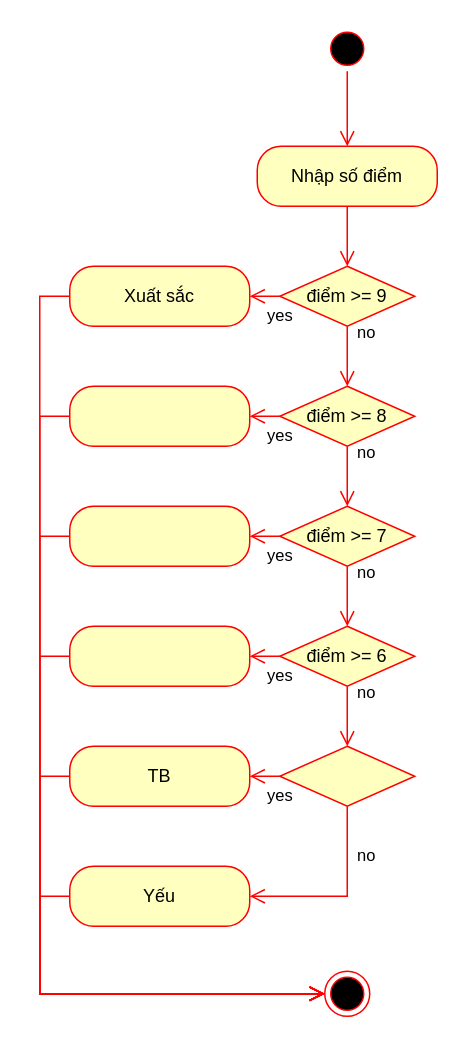
The diagram is 464 pixels wide and 1043 high, and some of its shapes have lost their labels. The shapes that lost their labels are listed below. From the top down, each one's box as (x1, y1, x2, y2) in pixels, then its label:
(68, 385, 250, 446): Giỏi
(68, 505, 250, 566): Khá
(68, 625, 250, 686): TB Khá
(278, 745, 415, 806): điểm >= 5
